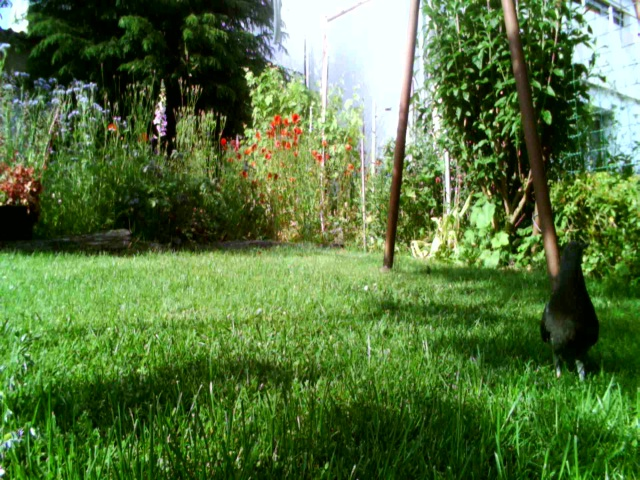Pigeon: (529, 238, 604, 374)
